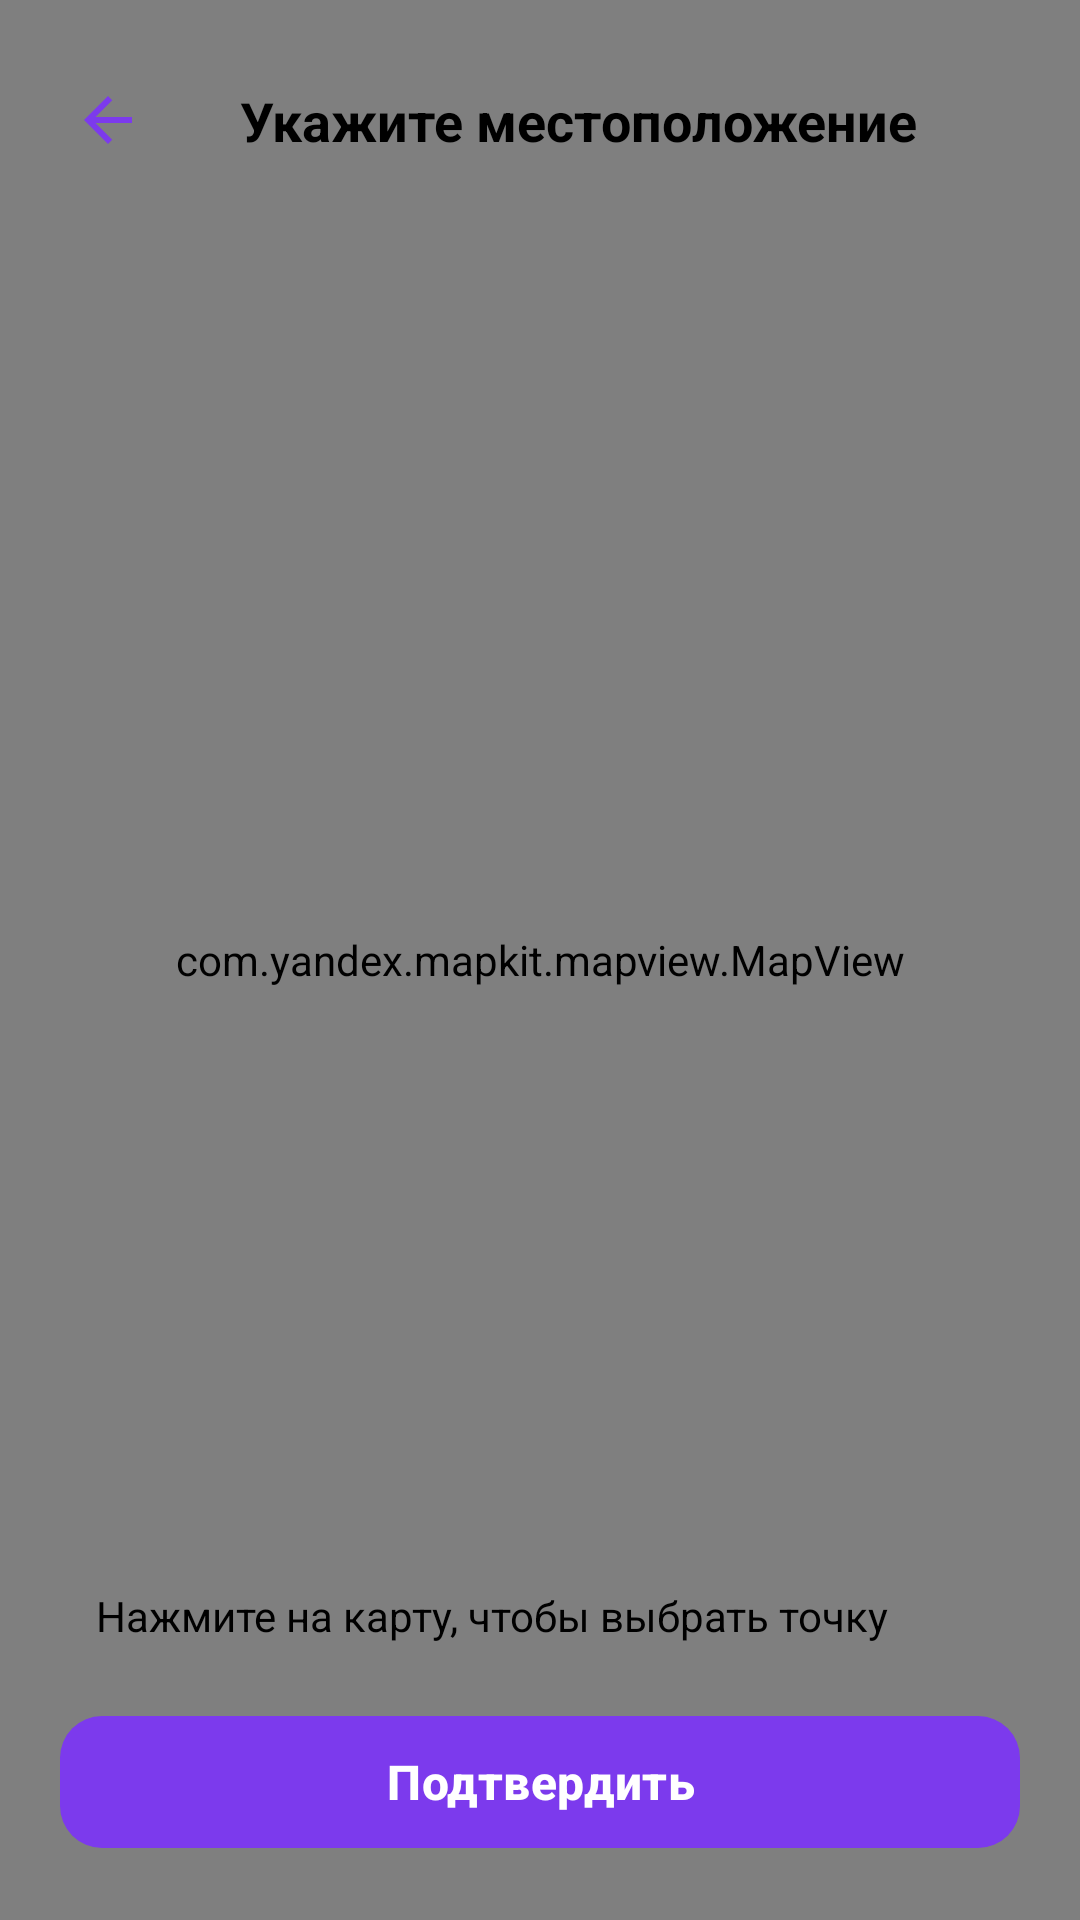

Icons on this 1080*1920 Android screen, each with its box as Rect(x1, y1, x2, y2):
Back: Rect(84, 96, 132, 144)
